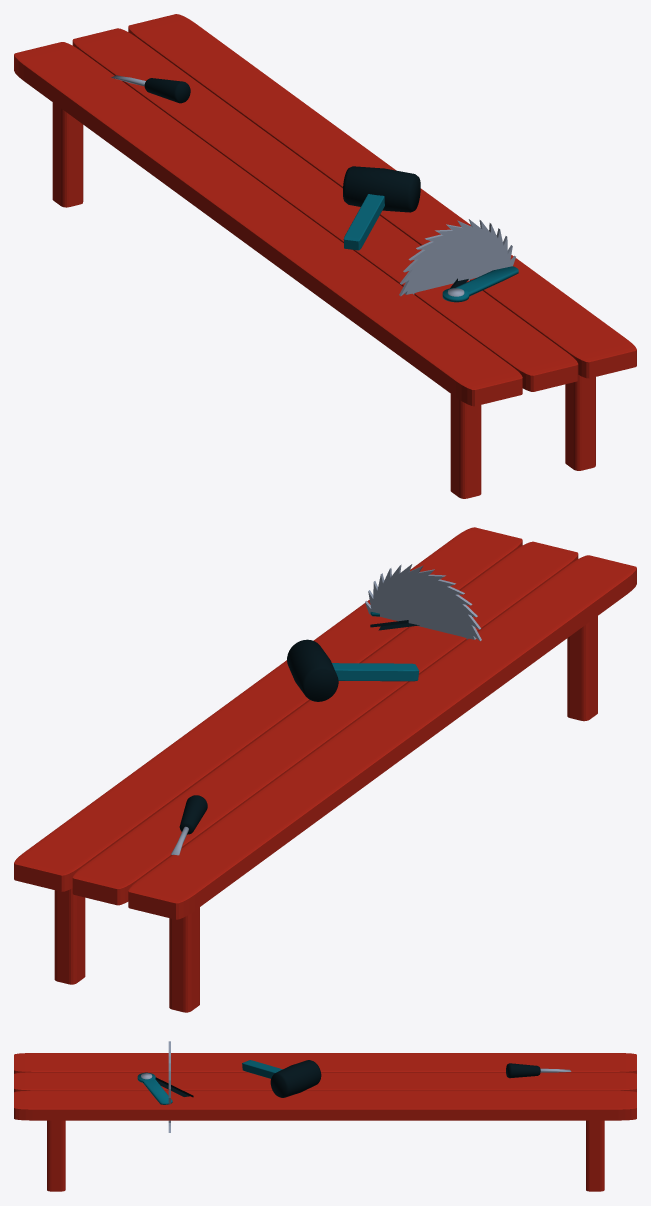
The model's file is mlotek.fbx.
3 renders of one model, top to bottom at view 1: azimuth 30°, elevation 25°; view 2: azimuth 150°, elevation 25°; view 3: azimuth 270°, elevation 25°, orthographic. The views are drawn at different scales.
Parts seen in each view (by area): view 1: e_stol1-noimp, e_pila-noimp, e_mlotek-noimp; view 2: e_stol1-noimp, e_pila-noimp, e_mlotek-noimp; view 3: e_stol1-noimp, e_mlotek-noimp.
Part boxes in pixels (left/top/right/bottom): e_stol1-noimp: left=14, top=14, right=636, bottom=498; e_pila-noimp: left=399, top=219, right=515, bottom=296; e_mlotek-noimp: left=343, top=166, right=420, bottom=250; e_stol1-noimp: left=14, top=527, right=636, bottom=1012; e_pila-noimp: left=365, top=564, right=481, bottom=641; e_mlotek-noimp: left=287, top=639, right=419, bottom=701; e_stol1-noimp: left=14, top=1053, right=636, bottom=1191; e_mlotek-noimp: left=242, top=1060, right=321, bottom=1097.
Size of the model in its own units: 243 by 259 by 1129.
